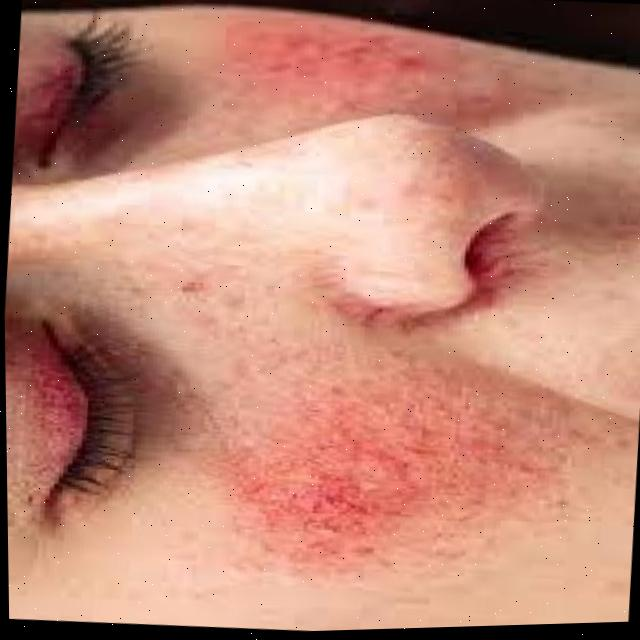Rosacea: (159, 263, 640, 589), (210, 0, 575, 151), (17, 331, 87, 500), (12, 43, 79, 150)
